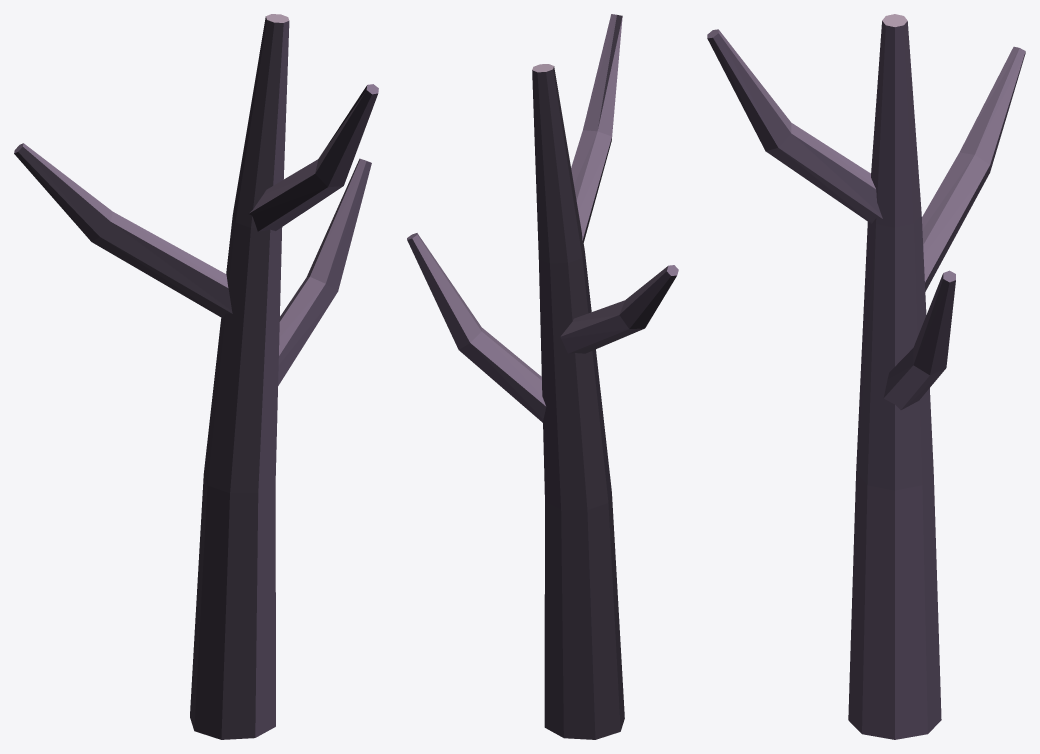
The model's file is TW_TREE_DEAD_FORK_A_LOD0.glb.
The picture shows the model from 3 angles, left to right: view 1: azimuth 30°, elevation 25°; view 2: azimuth 150°, elevation 25°; view 3: azimuth 270°, elevation 25°; orthographic projection. The views are drawn at different scales.
Parts seen in each view (by area): view 1: TW_TREE_DEAD_FORK_A_LOD0; view 2: TW_TREE_DEAD_FORK_A_LOD0; view 3: TW_TREE_DEAD_FORK_A_LOD0.
Boxes of the visible parts, box(x1,y1,x2,y2) form: TW_TREE_DEAD_FORK_A_LOD0: box(14, 14, 378, 739); TW_TREE_DEAD_FORK_A_LOD0: box(407, 14, 678, 739); TW_TREE_DEAD_FORK_A_LOD0: box(707, 14, 1025, 739).
Bounding box in the file's own units: 1.31 × 2.67 × 1.07.
1 material, 1 textured.
